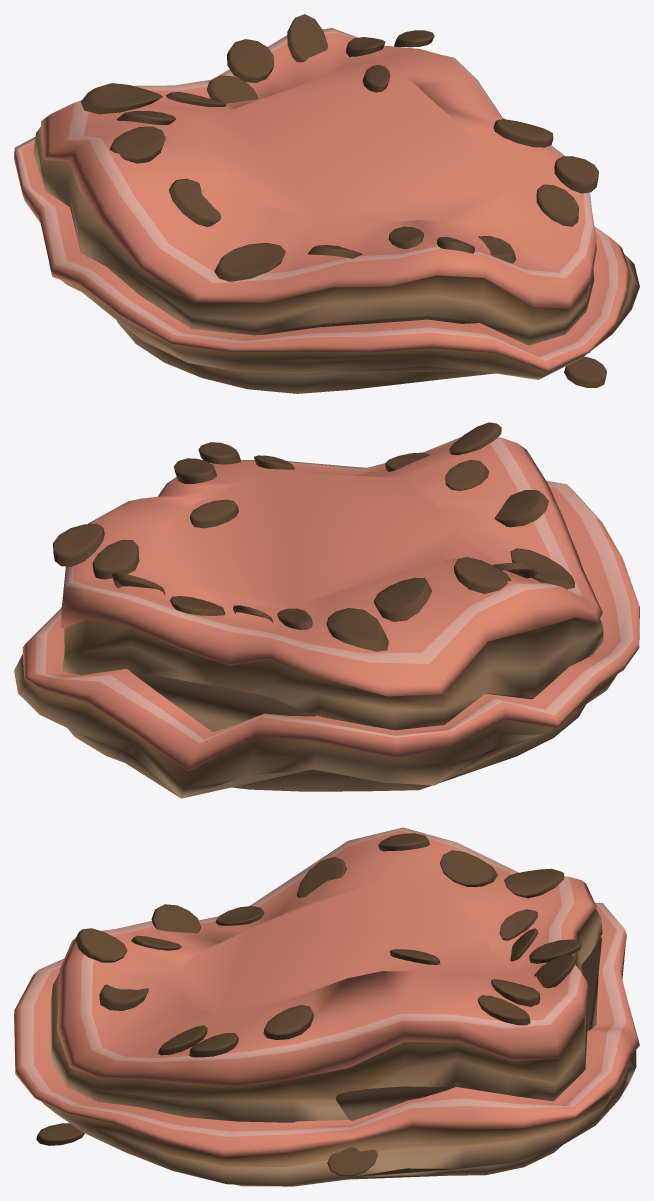
The model's file is Pastel-Deforme.FBX.
The picture shows the model from 3 angles, top to bottom: view 1: azimuth 30°, elevation 25°; view 2: azimuth 150°, elevation 25°; view 3: azimuth 270°, elevation 25°; orthographic projection. The views are drawn at different scales.
Visible parts, largest first — view 1: Grande; view 2: Grande; view 3: Grande.
Part boxes in pixels (x1,y1,x2,y2): Grande: [14, 14, 639, 393]; Grande: [14, 422, 639, 798]; Grande: [14, 827, 639, 1186].
Bounding box in the file's own units: 201 × 227 × 71.75.
